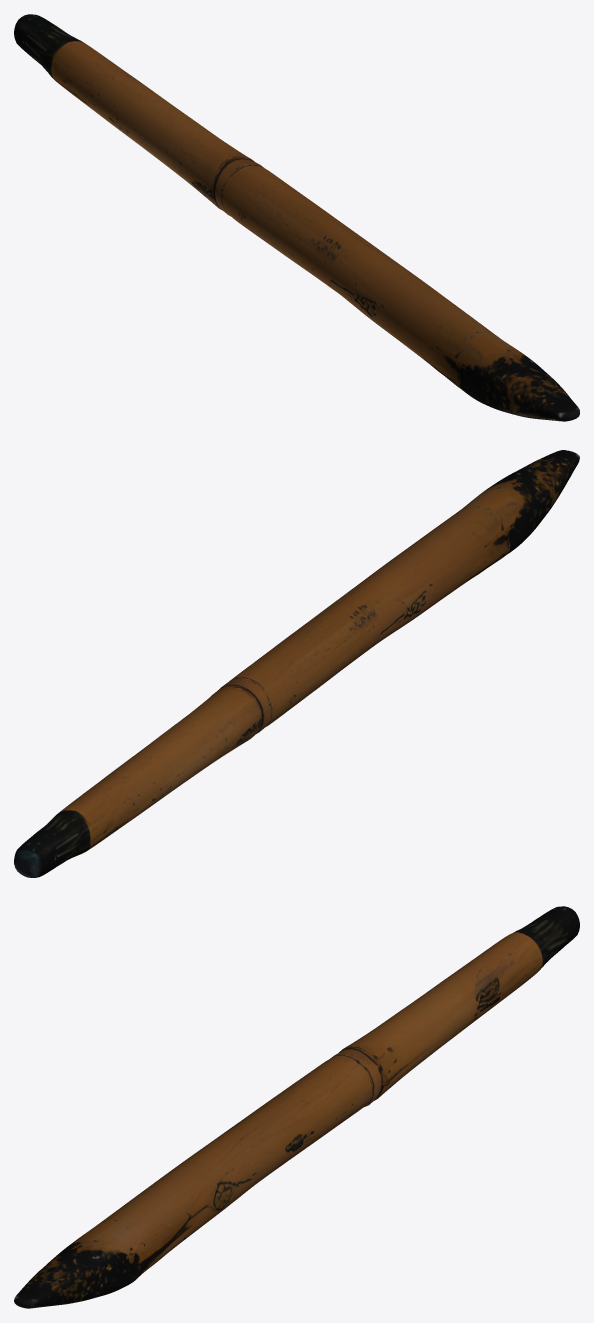
Rendered from bamboo pen.fbx.
The picture shows the model from 3 angles, top to bottom: view 1: azimuth 30°, elevation 25°; view 2: azimuth 150°, elevation 25°; view 3: azimuth 330°, elevation 25°; orthographic projection.
Visible parts, largest first — view 1: tripo_node_05e5a7a7; view 2: tripo_node_05e5a7a7; view 3: tripo_node_05e5a7a7.
Boxes of the visible parts, x1,y1,x2,y2 form: tripo_node_05e5a7a7: (14, 14, 579, 421); tripo_node_05e5a7a7: (14, 450, 579, 877); tripo_node_05e5a7a7: (14, 906, 579, 1308).
Size of the model in its own units: 5.66 by 5.78 by 99.97.
Materials: 1 (1 with a texture image).
